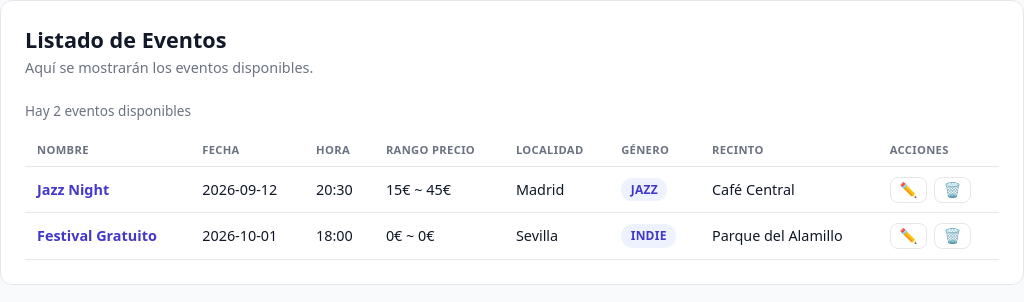
Test: EventList › delete (inline confirmation, no browser dialogs) › replaces the row actions with an inline confirmation instead of deleting immediately
The image size is (1024, 302).
What coordinates should you click on to do the following:
click the button named "Eliminar Jazz Night"
I would click on:
 (952, 190)
Its box is x1=934 y1=177 x2=971 y2=203.
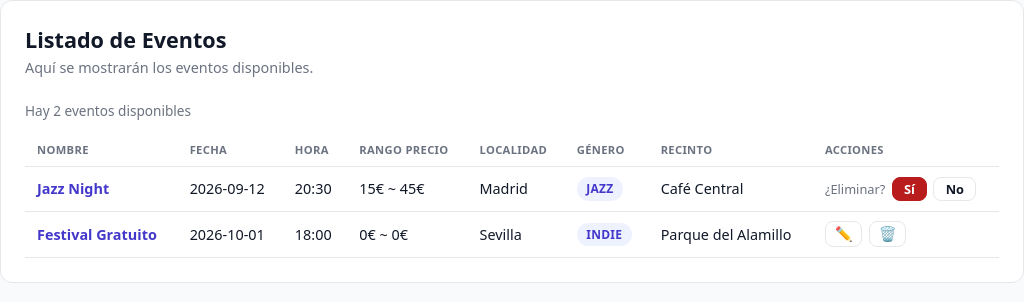
expect the text "¿Eliminar?" is shown: met, box x1=825 y1=180 x2=885 y2=198
expect the button with aria-label "Confirmar eliminación de Jazz Night" is shown: met, box x1=892 y1=177 x2=927 y2=201
expect the button with aria-label "Cancelar eliminación de Jazz Night" is shown: met, box x1=934 y1=177 x2=976 y2=201
